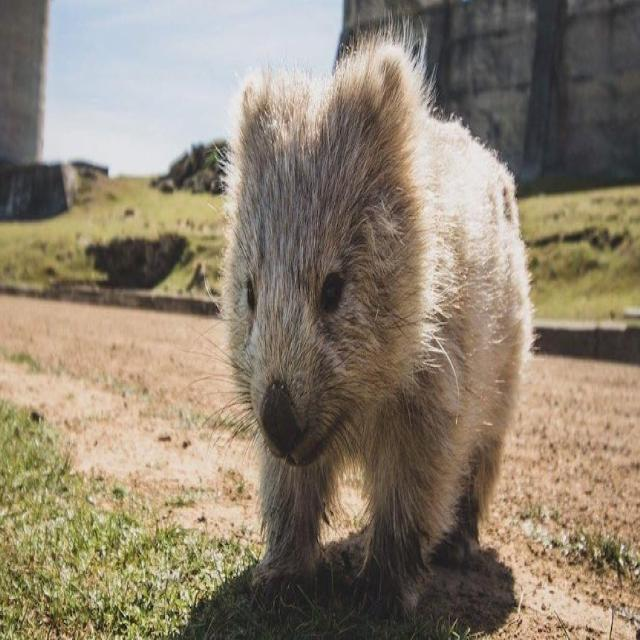Wombat: (221, 18, 533, 601)
